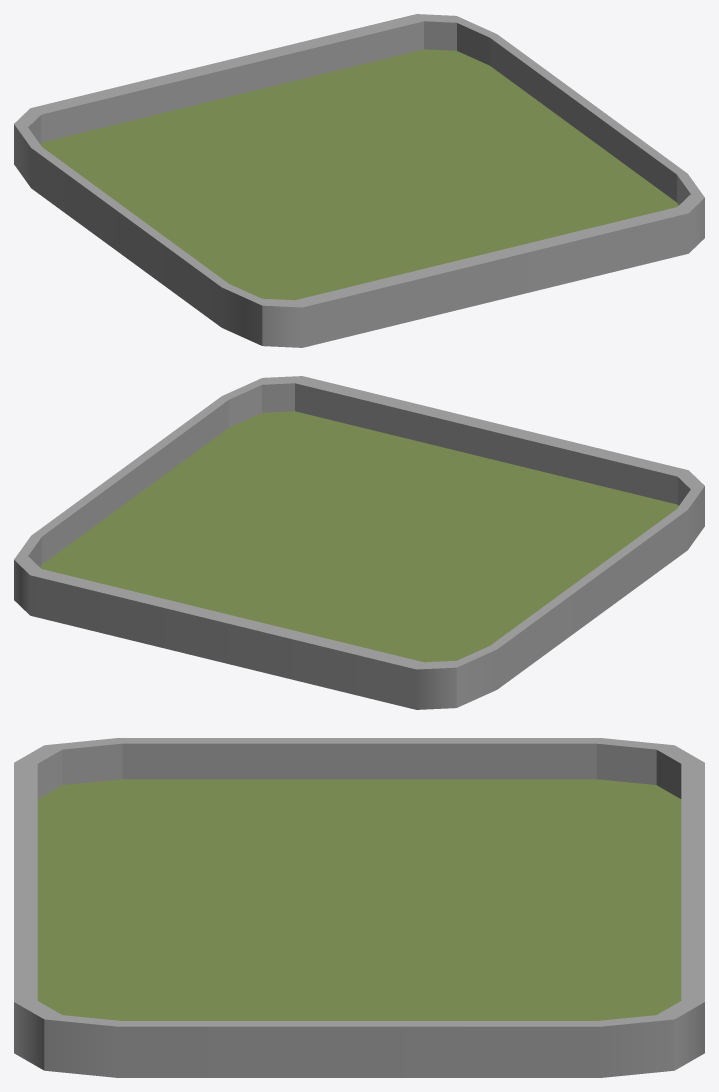
File: litlle square block.fbx
The picture shows the model from 3 angles, top to bottom: view 1: azimuth 30°, elevation 25°; view 2: azimuth 150°, elevation 25°; view 3: azimuth 270°, elevation 25°; orthographic projection. The views are drawn at different scales.
Parts seen in each view (by area): view 1: patter_de_maison_de_base7; view 2: patter_de_maison_de_base7; view 3: patter_de_maison_de_base7.
Part boxes in pixels (<box>): patter_de_maison_de_base7: <box>14,14,704,347</box>; patter_de_maison_de_base7: <box>14,376,704,709</box>; patter_de_maison_de_base7: <box>14,738,704,1077</box>.
Bounding box in the file's own units: 10998 × 912 × 11127.
